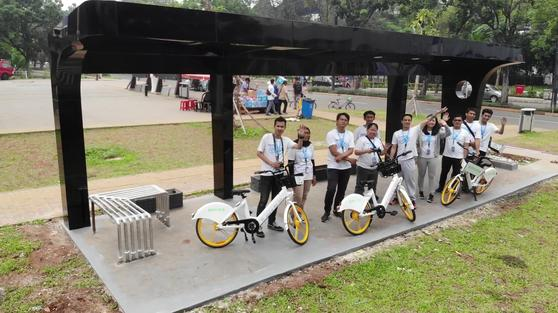bike: (189, 161, 315, 257), (336, 155, 426, 241), (436, 147, 503, 214)
